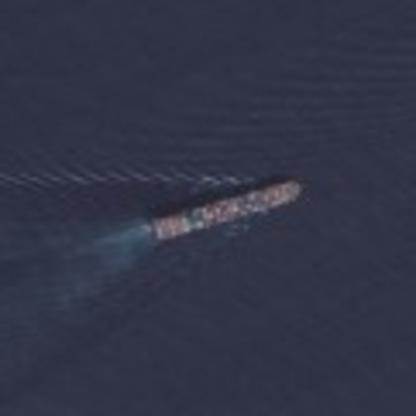ship: (145, 168, 309, 251)
